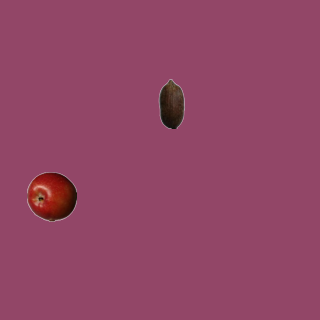Apple Braeburn: (26, 171, 76, 221)
Nut Pecan: (146, 78, 196, 128)
